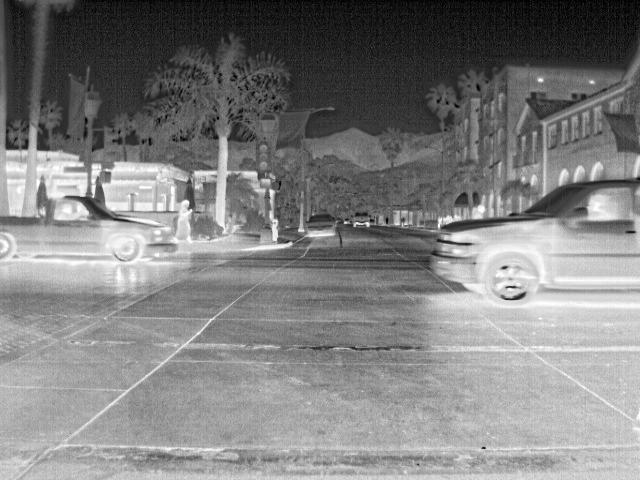car: (426, 177, 639, 308), (2, 192, 181, 266), (305, 214, 338, 238), (351, 212, 372, 230)
person: (172, 198, 194, 246)
